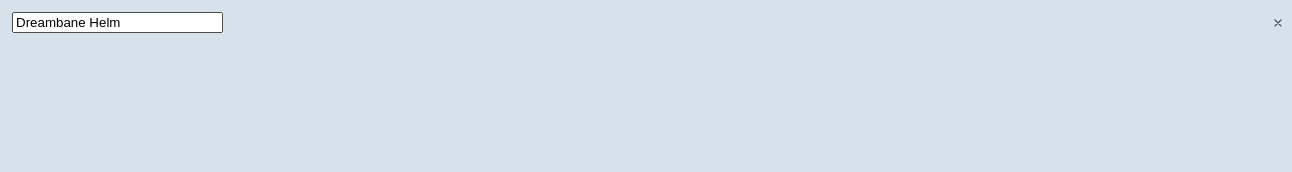
Test: ClearSearchInput keyboard undo › Ctrl+Z after Clear restores the exact text and caret
Click the button named "Clear filter" at (1278, 22), box [1268,12,1288,32]
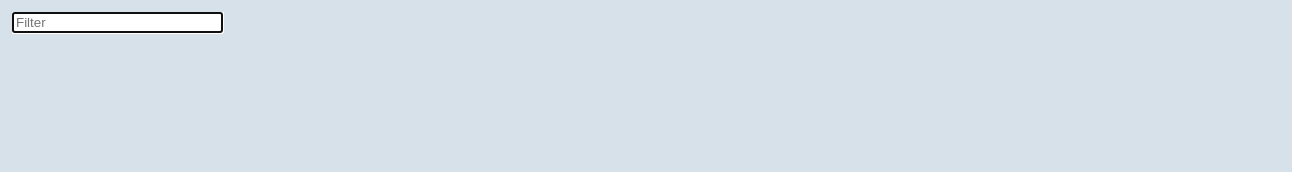
Press z in the search field with placeholder "Filter", box [12,12,223,33]
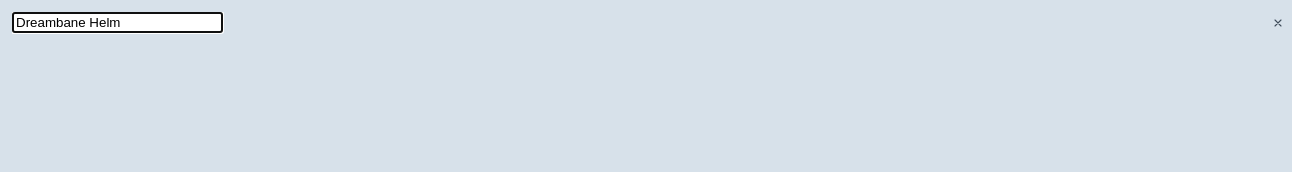
Result: the search field holds "Dreambane Helm" at [12,12,223,33]
